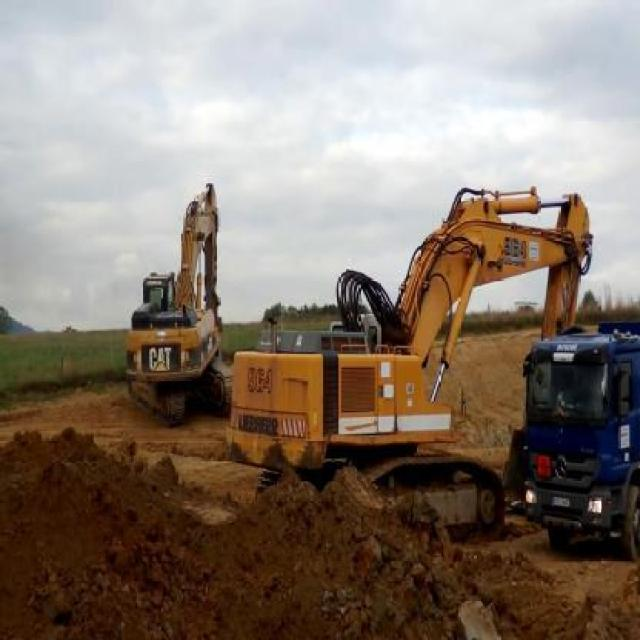dump_truck: (521, 320, 639, 565)
excavator: (226, 182, 594, 535), (118, 172, 227, 438)
